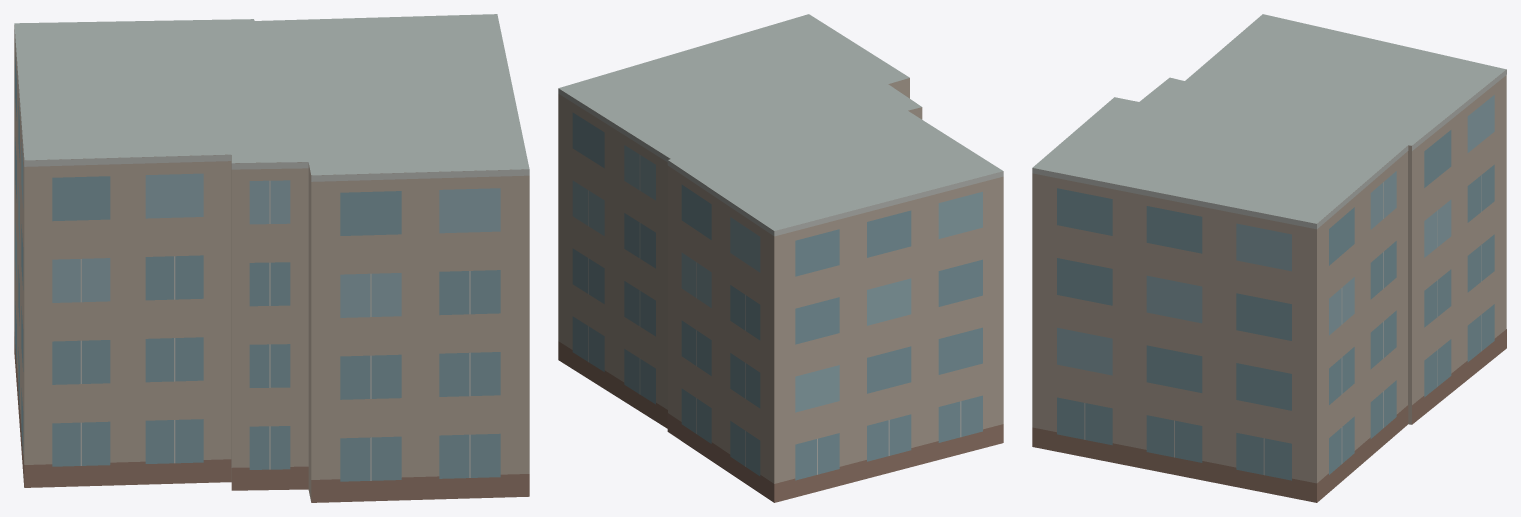
Rendered from survey-upis-33045209.glb.
3 views of the same model, side by side, from view 1: azimuth 30°, elevation 25°; view 2: azimuth 150°, elevation 25°; view 3: azimuth 270°, elevation 25° (orthographic). The views are drawn at different scales.
Parts seen in each view (by area): view 1: survey-upis-33045209.tmp; view 2: survey-upis-33045209.tmp; view 3: survey-upis-33045209.tmp.
Boxes of the visible parts, x1,y1,x2,y2 form: survey-upis-33045209.tmp: (14, 14, 529, 502); survey-upis-33045209.tmp: (558, 14, 1003, 502); survey-upis-33045209.tmp: (1032, 14, 1506, 502).
Size of the model in its own units: 20.01 by 12.4 by 19.12.
